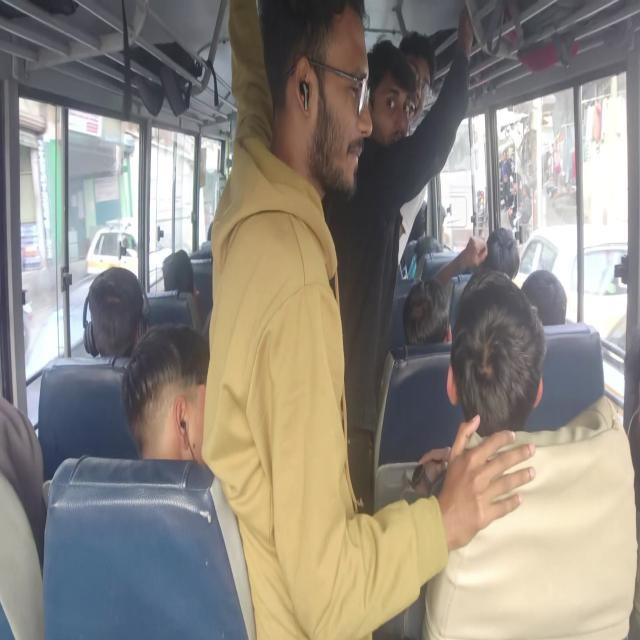person: (286, 0, 393, 261), (150, 366, 230, 490), (99, 268, 180, 378), (0, 370, 38, 574), (466, 324, 521, 408), (149, 249, 202, 300), (401, 24, 438, 92), (376, 64, 408, 128), (484, 226, 522, 275), (411, 285, 444, 337), (529, 265, 555, 306)
